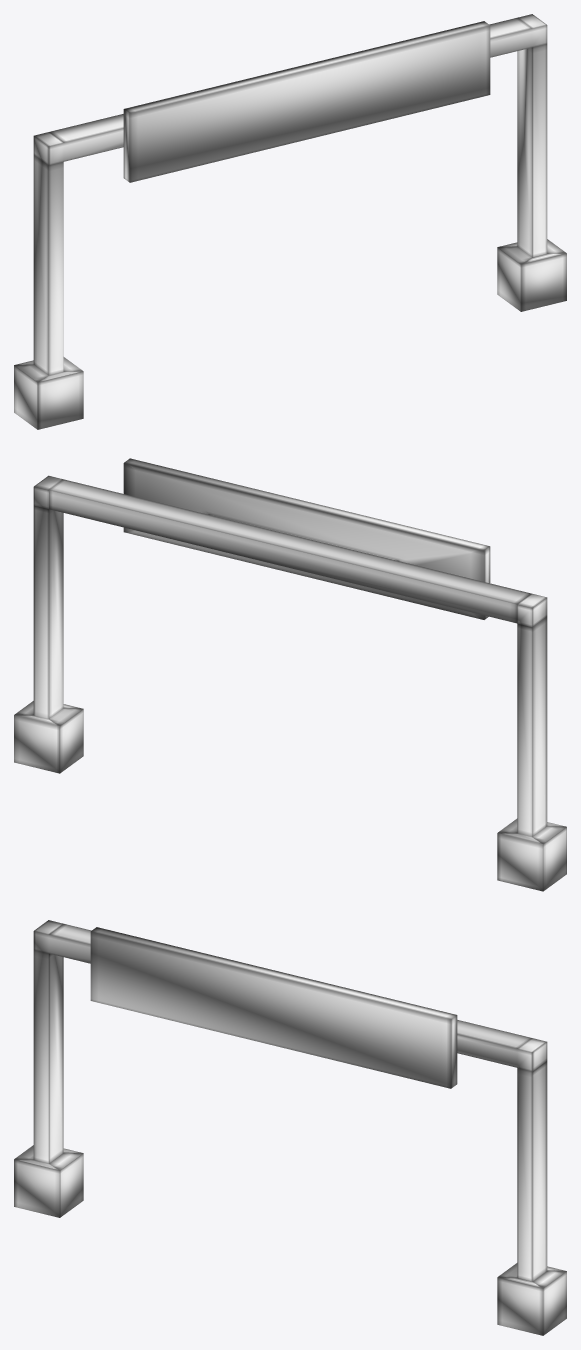
File: Track-Banner-01.fbx
The picture shows the model from 3 angles, top to bottom: view 1: azimuth 30°, elevation 25°; view 2: azimuth 150°, elevation 25°; view 3: azimuth 330°, elevation 25°; orthographic projection.
Visible parts, largest first — view 1: Track-Banner-01; view 2: Track-Banner-01; view 3: Track-Banner-01.
Part boxes in pixels (x1,y1,x2,y2): Track-Banner-01: [14, 14, 566, 429]; Track-Banner-01: [14, 458, 566, 891]; Track-Banner-01: [14, 920, 566, 1335].
Size of the model in its own units: 2.48 by 1.35 by 0.2559.
